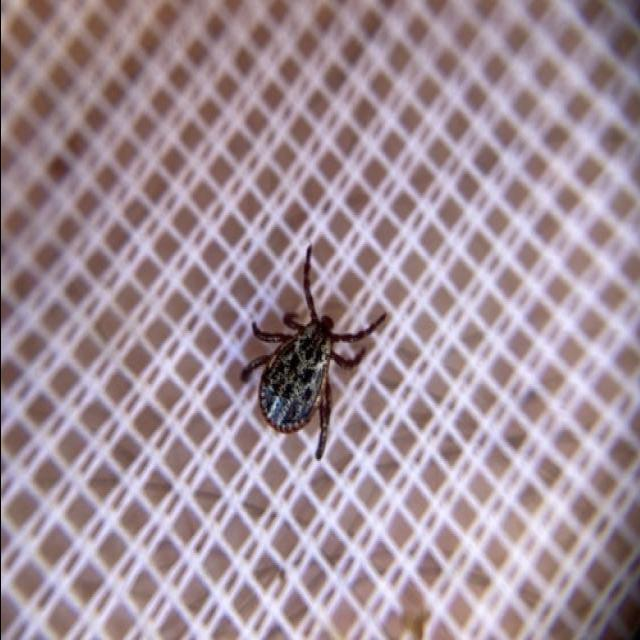Dermacentor Reticulatus-M: (238, 246, 385, 459)
